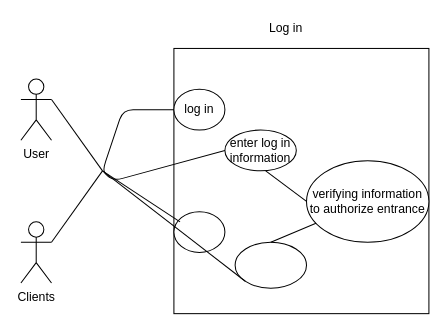
Image size: 447x332. Some labels were removed from this diagram. Each missing label, with the centre of its shape:
"create new account" belongs at pixel 270 264.
"sign up" belongs at pixel 199 231.
